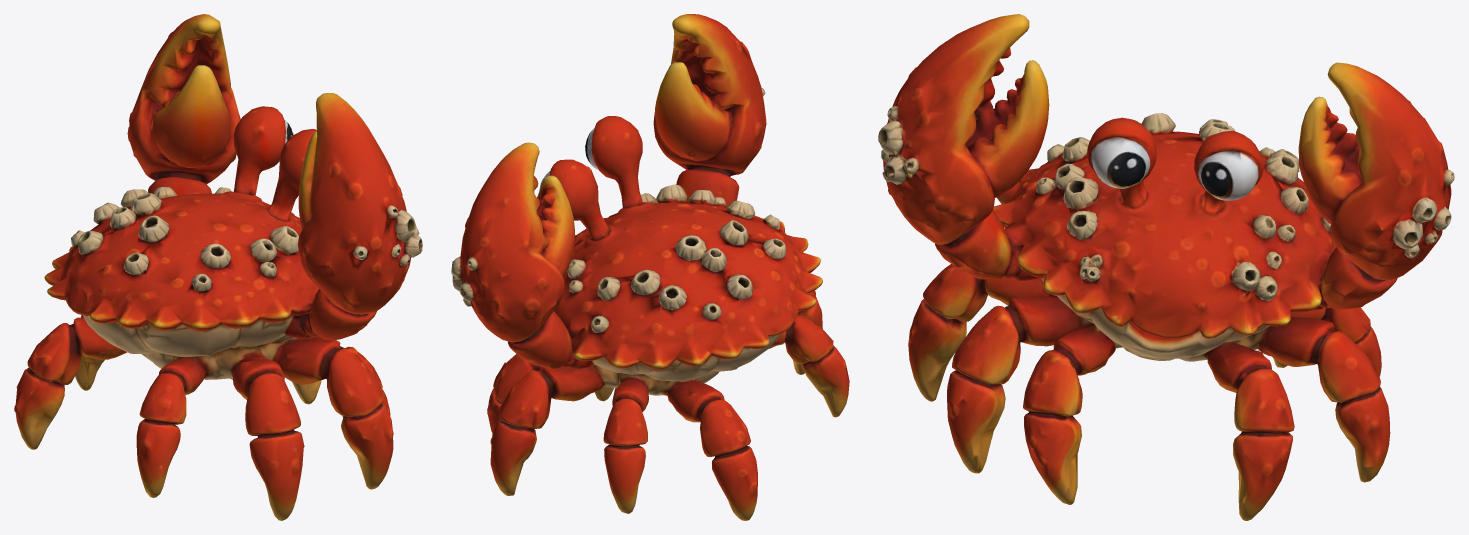
File: crab.glb
The picture shows the model from 3 angles, left to right: view 1: azimuth 30°, elevation 25°; view 2: azimuth 150°, elevation 25°; view 3: azimuth 270°, elevation 25°; orthographic projection. The views are drawn at different scales.
Visible parts, largest first — view 1: tripo_node_77c9046c-199a-4caf-aabf-a28edd9d3fc0; view 2: tripo_node_77c9046c-199a-4caf-aabf-a28edd9d3fc0; view 3: tripo_node_77c9046c-199a-4caf-aabf-a28edd9d3fc0.
Boxes of the visible parts, left/top/right/bottom form: tripo_node_77c9046c-199a-4caf-aabf-a28edd9d3fc0: left=14, top=14, right=422, bottom=520; tripo_node_77c9046c-199a-4caf-aabf-a28edd9d3fc0: left=451, top=14, right=849, bottom=520; tripo_node_77c9046c-199a-4caf-aabf-a28edd9d3fc0: left=878, top=14, right=1454, bottom=520.
Bounding box in the file's own units: 0.6624 × 0.8802 × 0.9995.
Materials: 1 (1 with a texture image).
